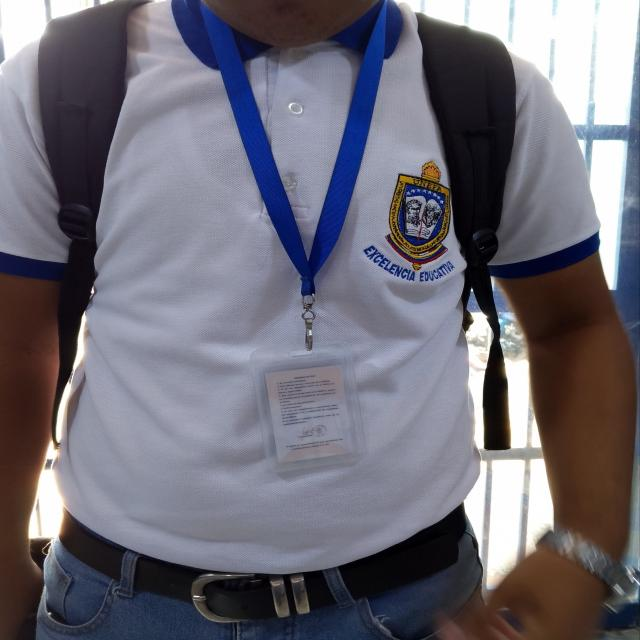carnet: (263, 363, 355, 464)
uniforme_superior: (1, 0, 602, 574)
